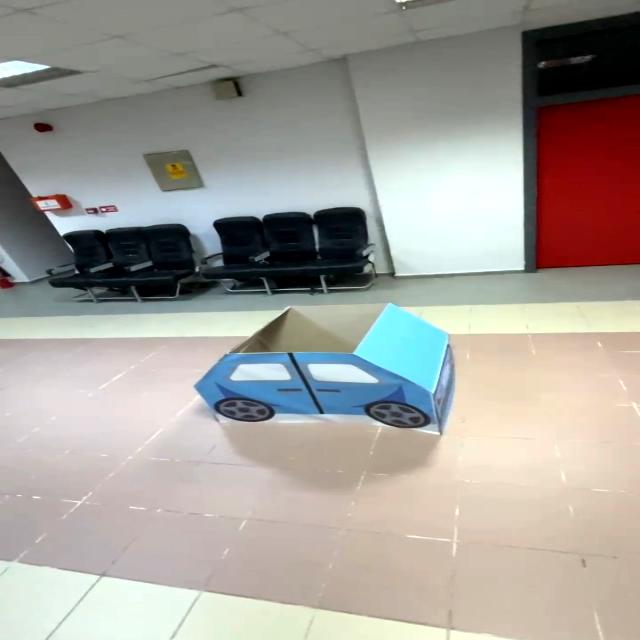blue_car: (158, 299, 488, 448)
